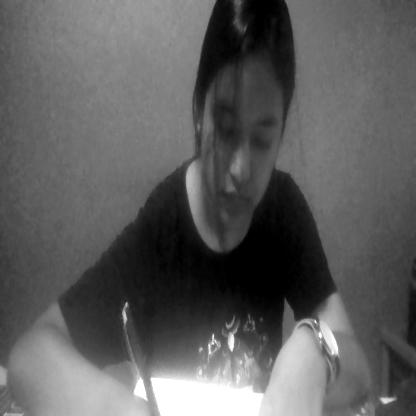Normal: (197, 49, 284, 228)
